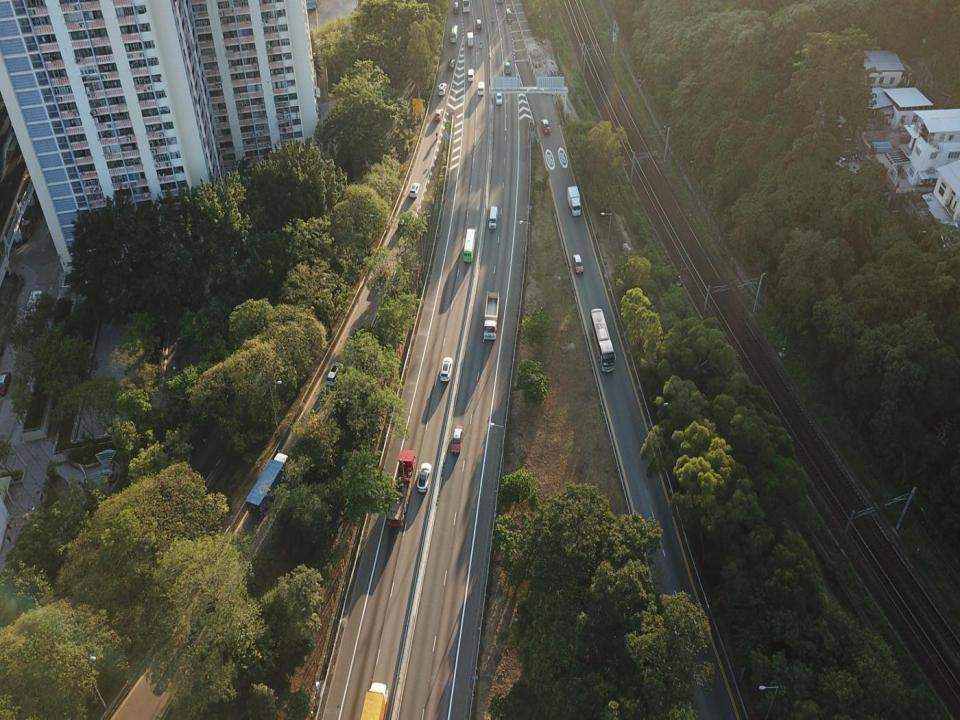bus: (590, 308, 616, 373), (463, 228, 475, 262), (462, 0, 471, 13)
car: (416, 462, 433, 494), (326, 363, 343, 387), (450, 425, 464, 453), (440, 356, 453, 382), (0, 371, 11, 397), (572, 254, 584, 275), (541, 117, 551, 134), (409, 183, 420, 198), (434, 107, 444, 122), (398, 216, 408, 230), (437, 82, 446, 96), (506, 7, 512, 24), (496, 90, 502, 104), (505, 61, 511, 75), (449, 58, 454, 70), (476, 19, 481, 29)
truck: (246, 453, 290, 516), (388, 448, 416, 527), (360, 682, 389, 718), (483, 291, 499, 342), (25, 290, 44, 325), (566, 186, 582, 216), (450, 21, 458, 43), (467, 31, 474, 48)
van: (488, 206, 499, 229), (476, 81, 484, 96), (467, 68, 474, 82), (453, 0, 459, 15)
